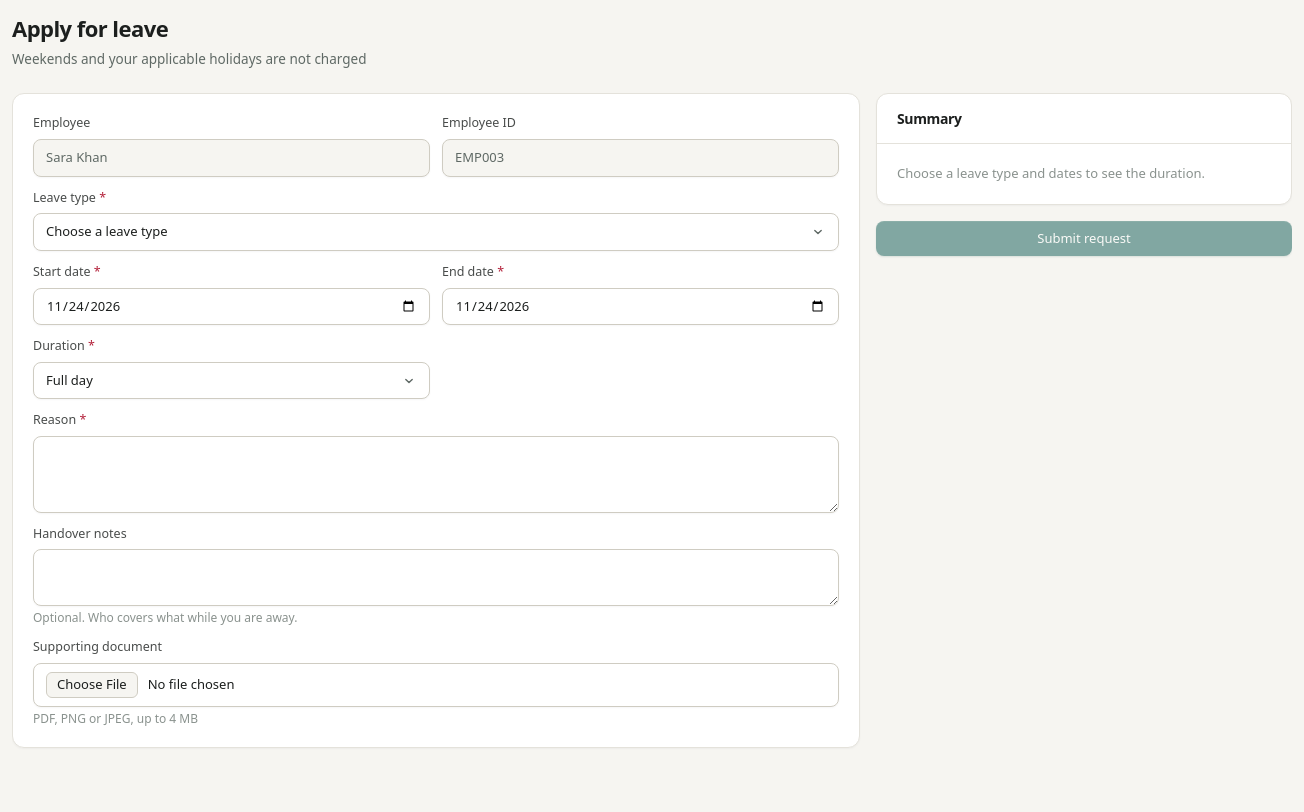
Test: leave application form › reason › clears the error when switching to leave that does not need one
The width and height of the screenshot is (1304, 812).
Select "Casual Leave (CL)" in the dropdown labelled "Leave type *": (436, 232) [33,213,839,251]
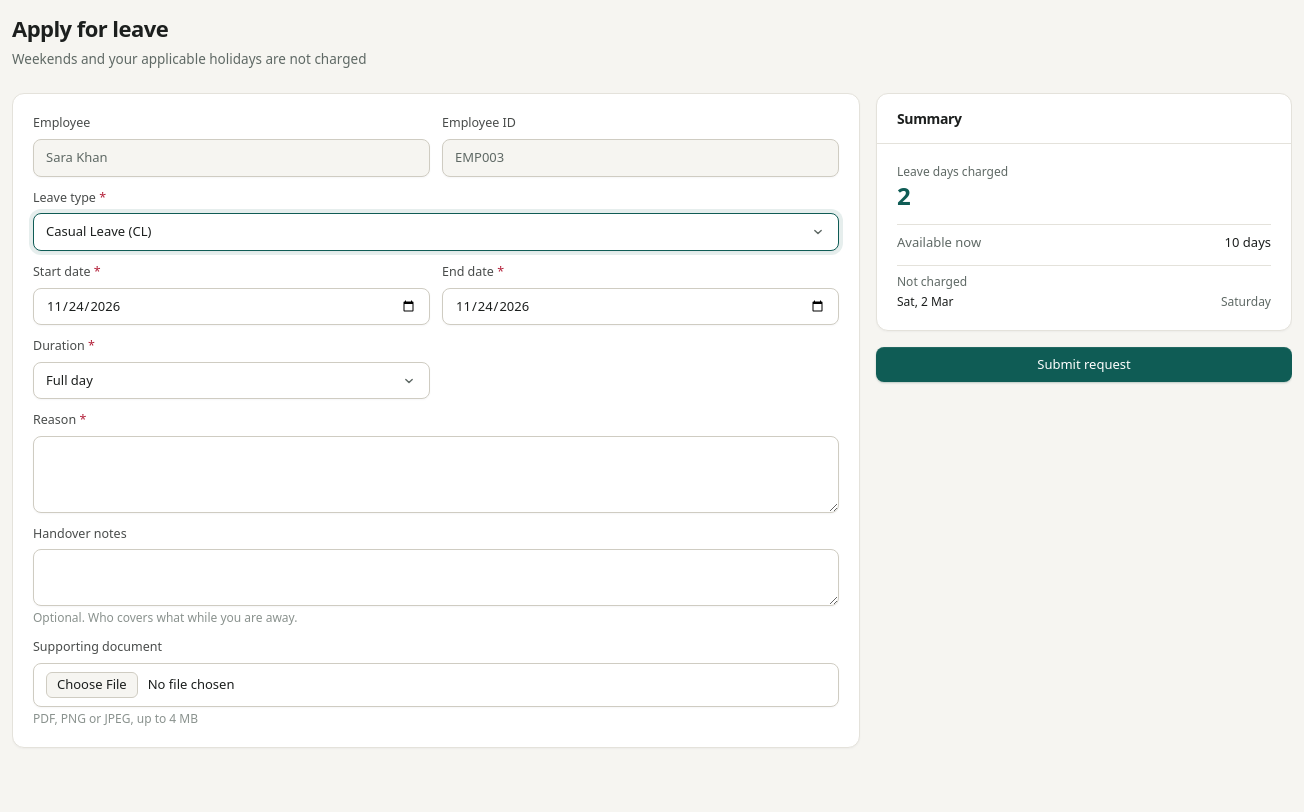
Expected: the text "2" is shown, [897,179,911,212]
Click the button "Submit request": (1084, 365) [876,347,1292,382]
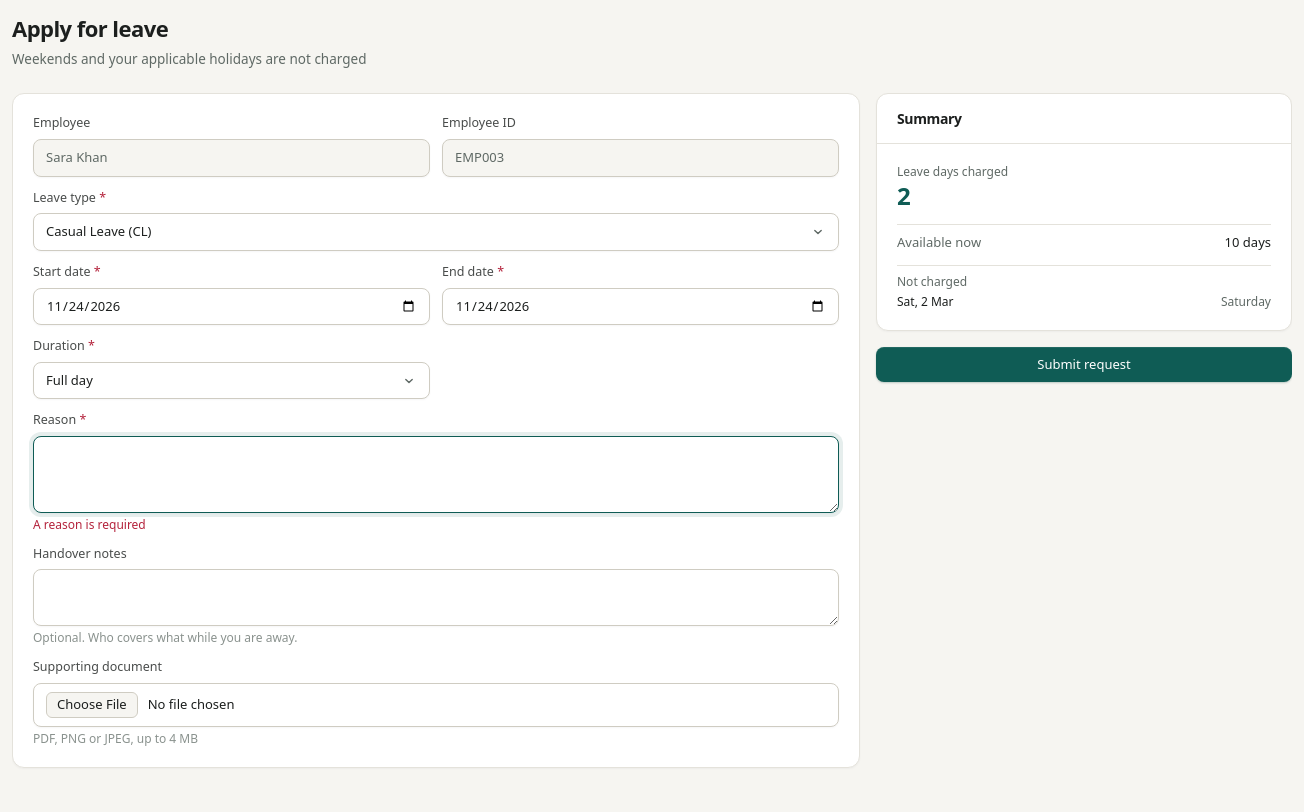
Expected: the text "A reason is required" is shown, [33,516,146,532]
Select "Menstrual Leave (MNL)" in the dropdown labelled "Leave type *": (436, 232) [33,213,839,251]
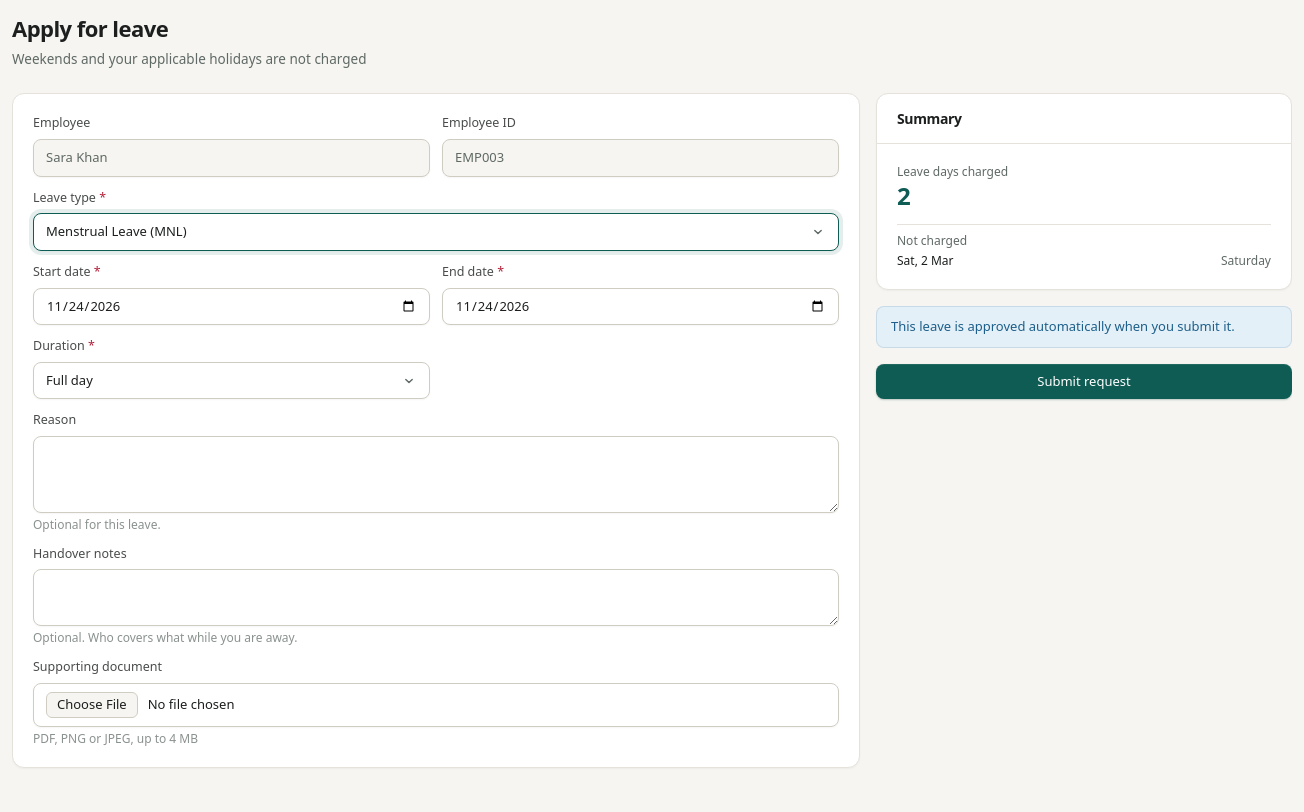
Expected: the text "A reason is required" is gone
